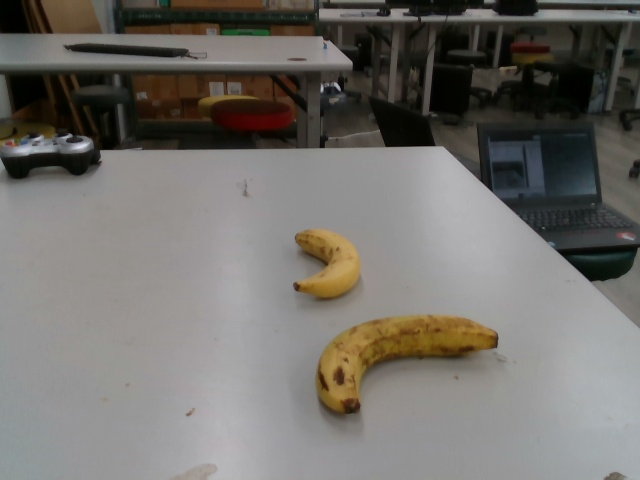banana: (306, 311, 501, 418), (290, 228, 361, 300)
